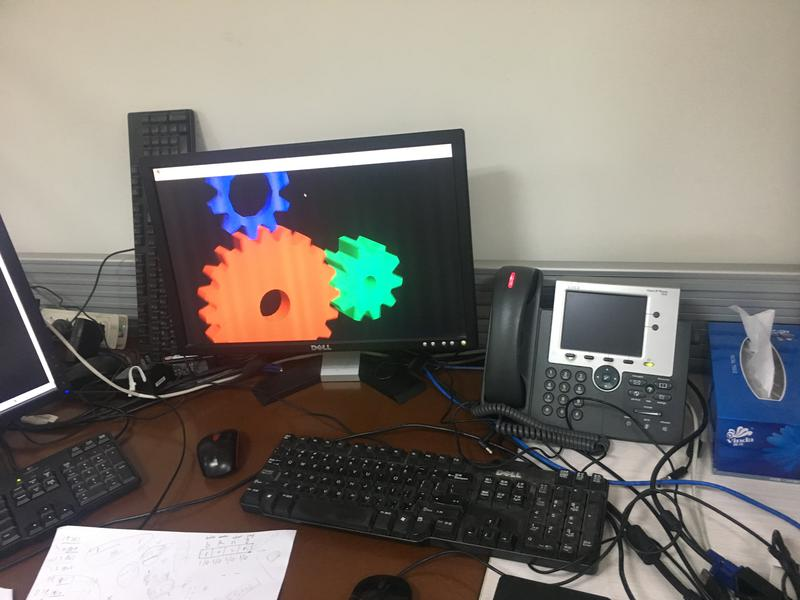glxgears_pass: (163, 166, 409, 343)
